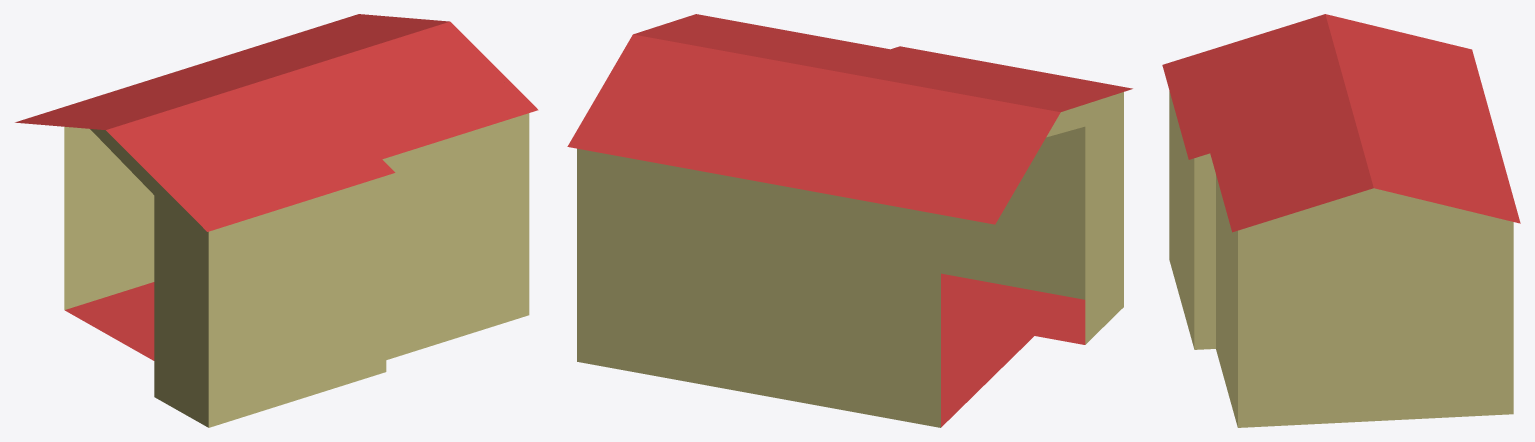
3 renders of one model, left to right at view 1: azimuth 30°, elevation 25°; view 2: azimuth 150°, elevation 25°; view 3: azimuth 270°, elevation 25°, orthographic. The views are drawn at different scales.
Bounding box in the file's own units: 17.26 × 13.86 × 10.06.
